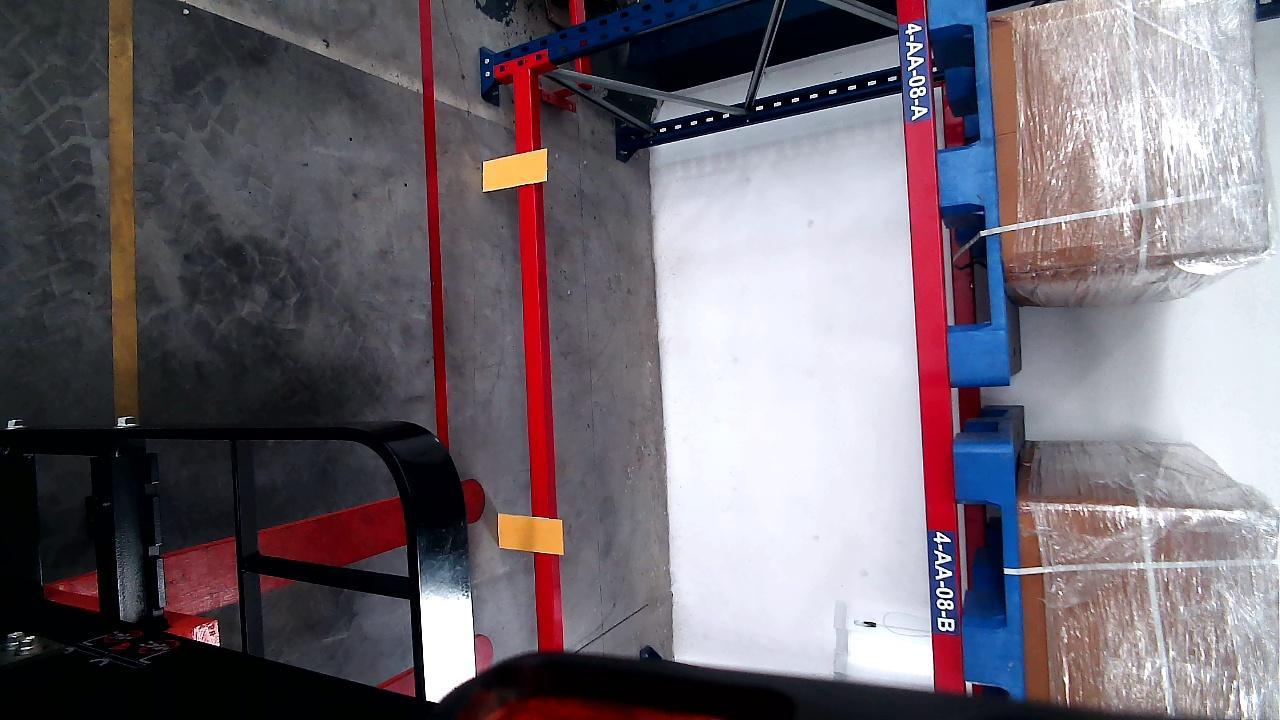red_line: (421, 5, 449, 441)
yellow_line: (109, 0, 139, 421)
